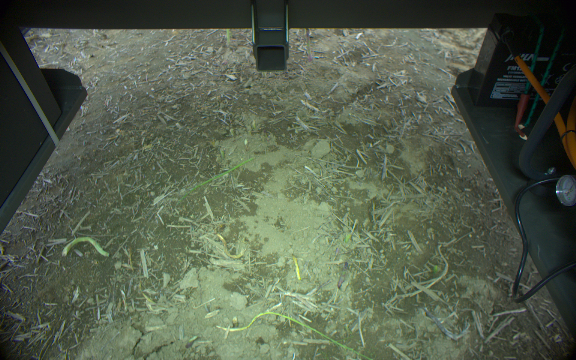aspa: (60, 235, 112, 262), (335, 260, 352, 292)
